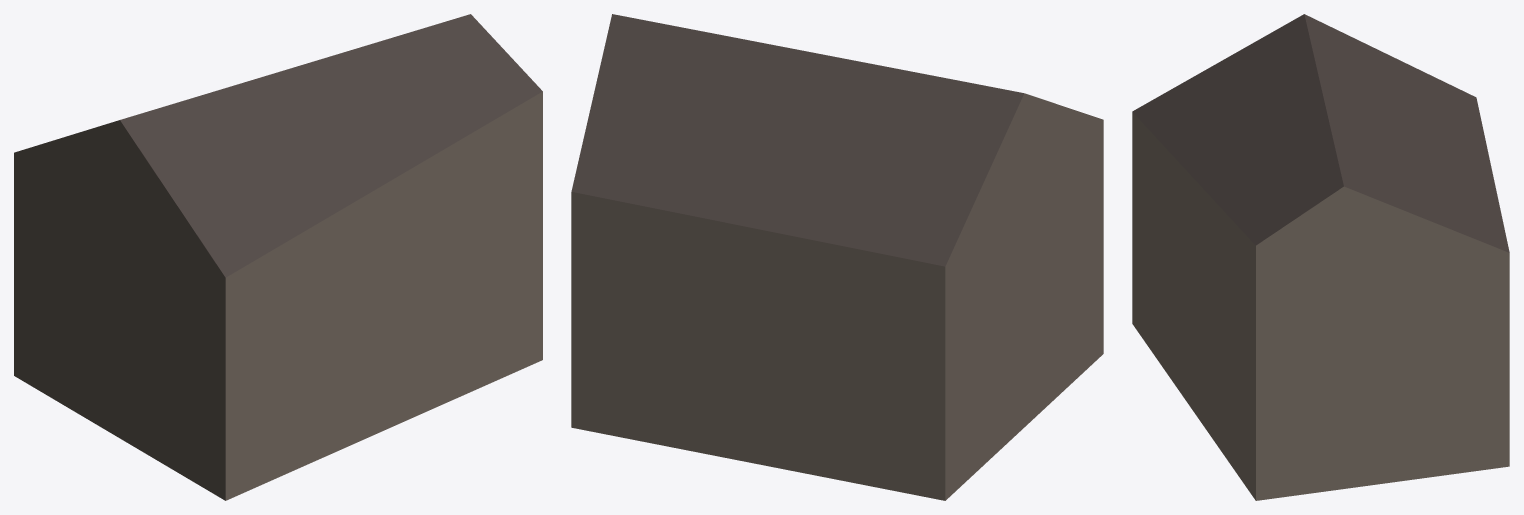
3 renders of one model, left to right at view 1: azimuth 30°, elevation 25°; view 2: azimuth 150°, elevation 25°; view 3: azimuth 270°, elevation 25°, orthographic. The views are drawn at different scales.
Visible parts, largest first — view 1: HP-w1198845810; view 2: HP-w1198845810; view 3: HP-w1198845810.
Boxes of the visible parts, x1,y1,x2,y2 form: HP-w1198845810: (14,14,542,500); HP-w1198845810: (571,14,1103,500); HP-w1198845810: (1132,14,1509,500).
Bounding box in the file's own units: 11.62 × 8.56 × 9.68.
